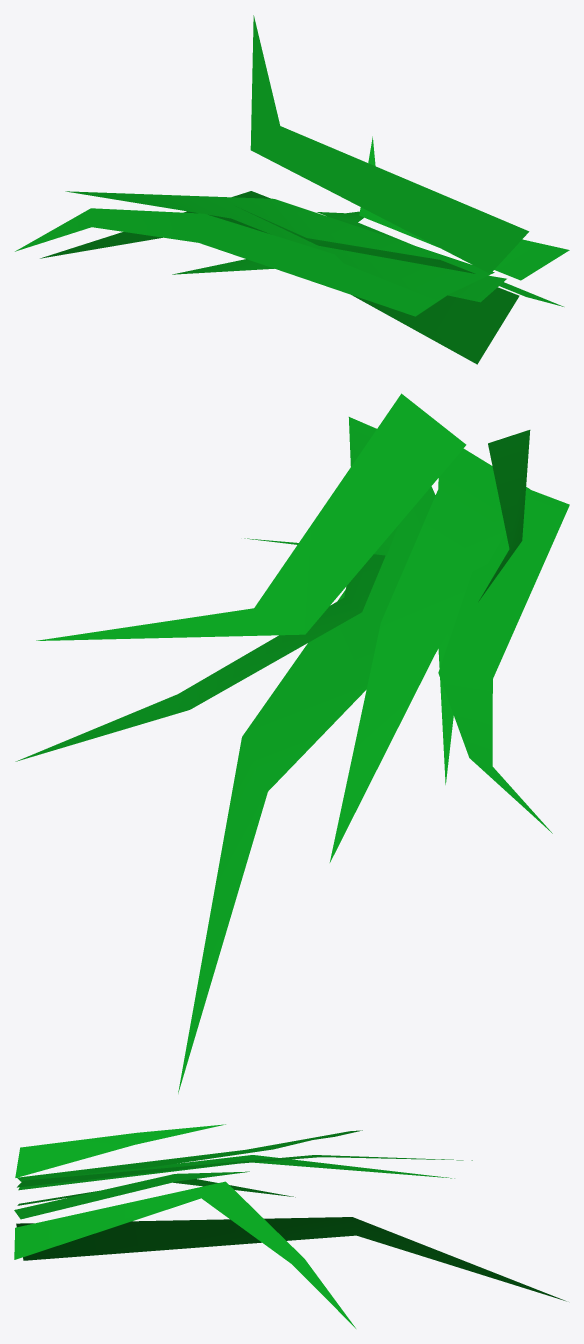
Rendered from iarba3.fbx.
The picture shows the model from 3 angles, top to bottom: view 1: azimuth 30°, elevation 25°; view 2: azimuth 150°, elevation 25°; view 3: azimuth 270°, elevation 25°; orthographic projection. The views are drawn at different scales.
Parts seen in each view (by area): view 1: Grass 5; view 2: Grass 5; view 3: Grass 5.
Boxes of the visible parts, <box> form: Grass 5: <box>15,15,569,364</box>; Grass 5: <box>15,393,569,1093</box>; Grass 5: <box>14,1124,566,1328</box>.
Bounding box in the file's own units: 42.12 × 25.33 × 61.64.
